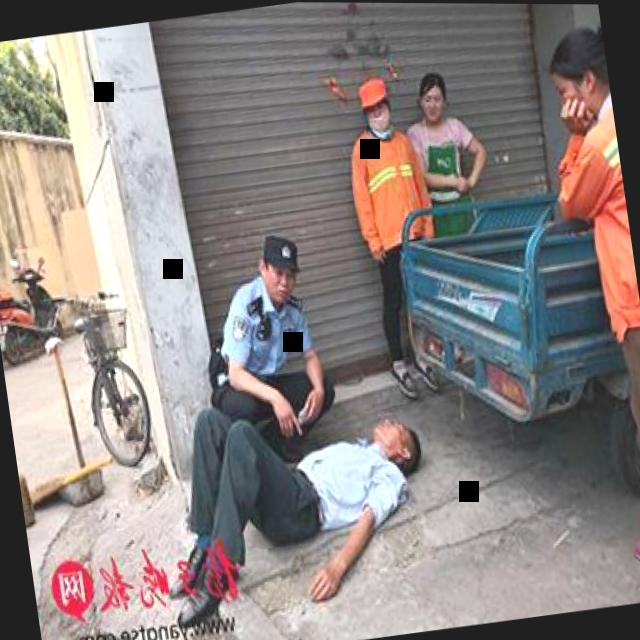Fall-Detected: (132, 368, 458, 637)
